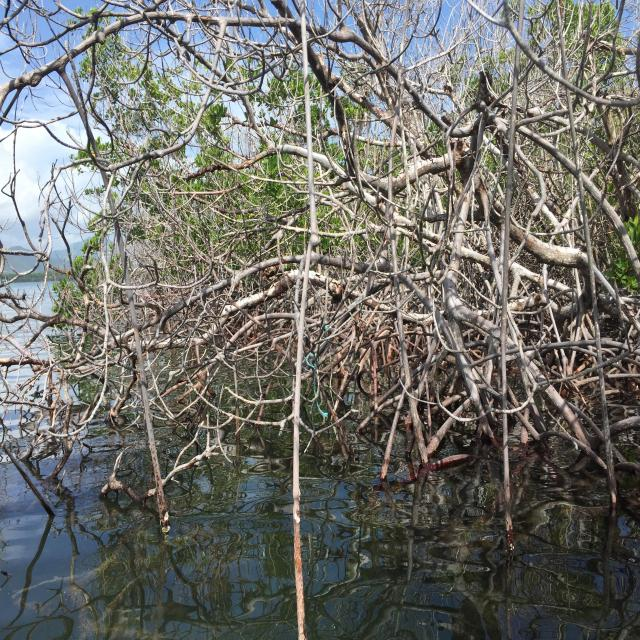litter: (306, 327, 327, 417)
